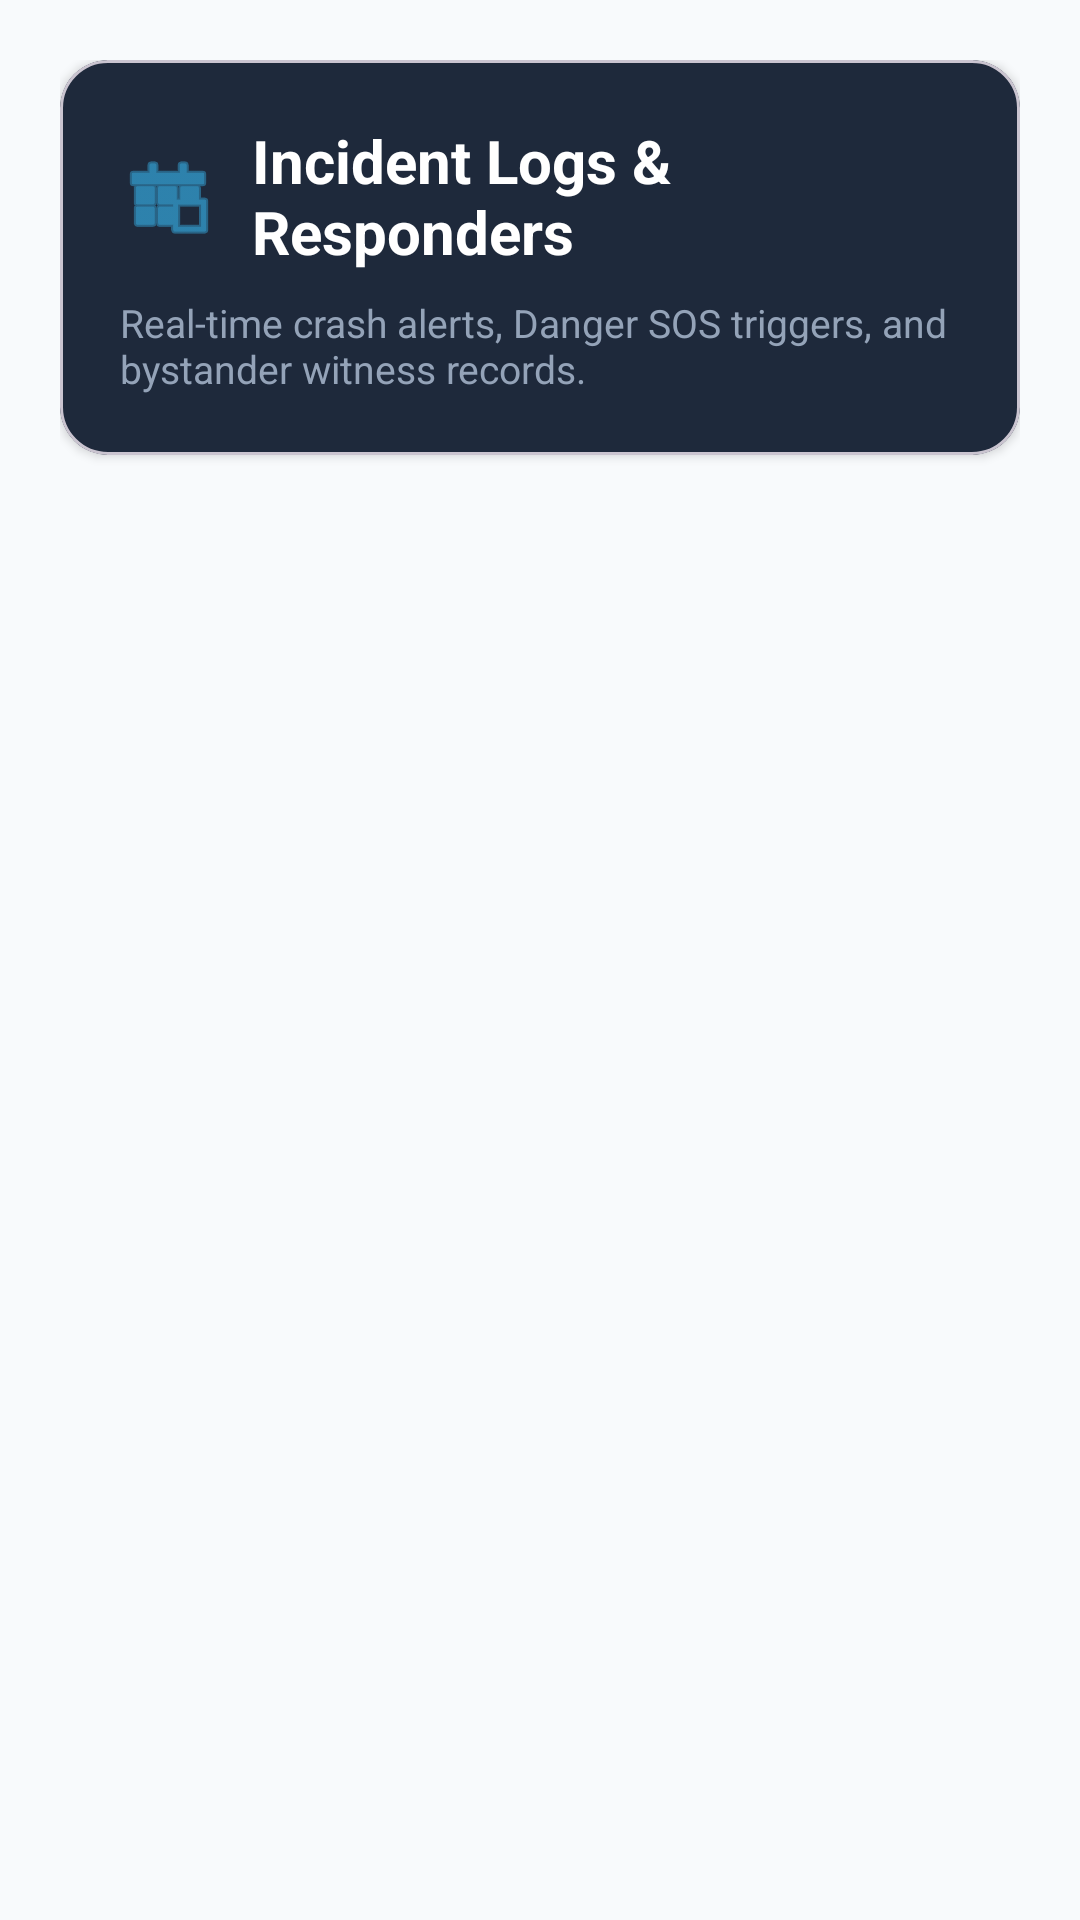

Icon click points for this 1080px×1920px phone screenshot, format point (x, y):
Incident History Icon: point (169, 197)
